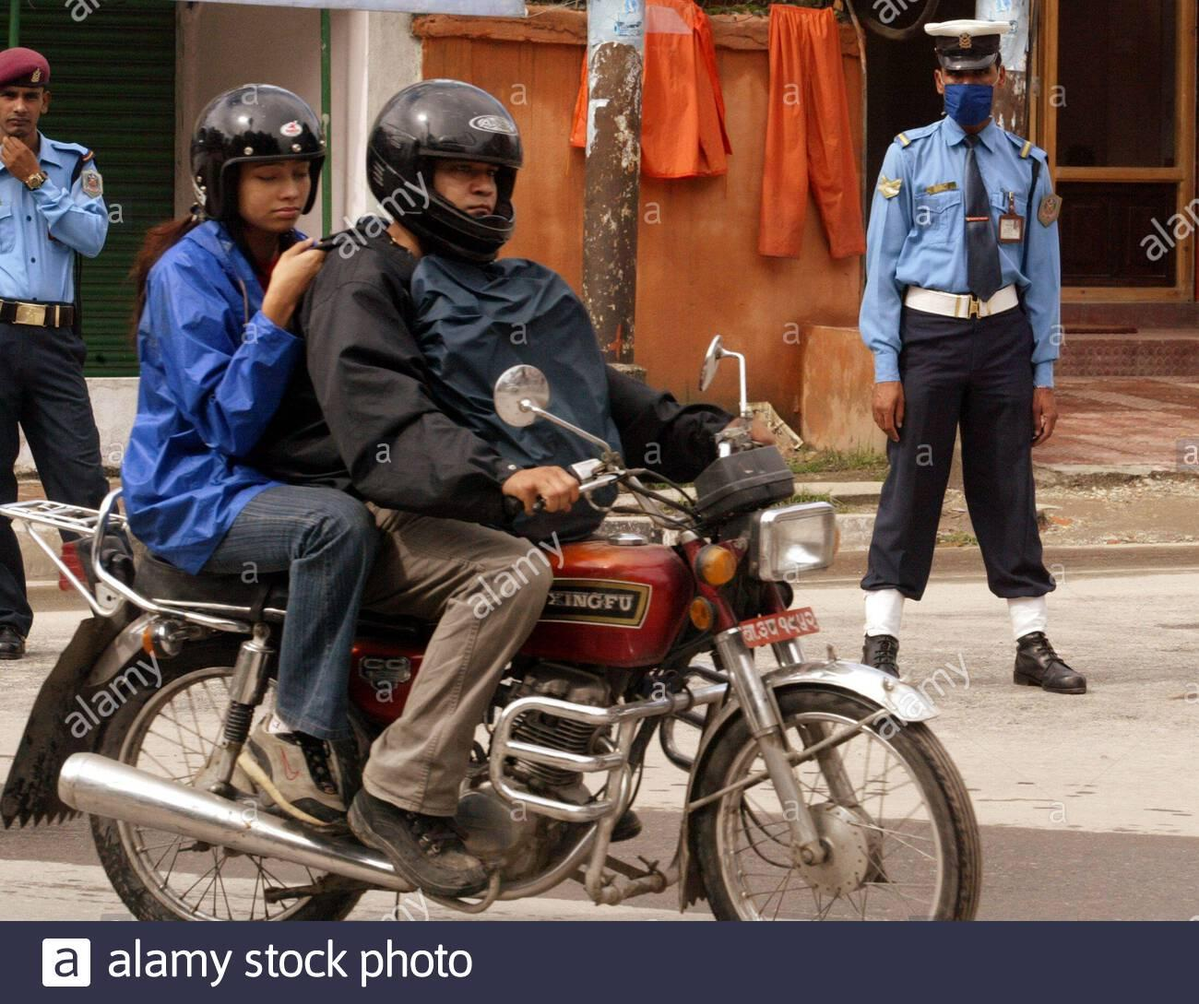helmet: (358, 65, 574, 262), (164, 53, 345, 251)
